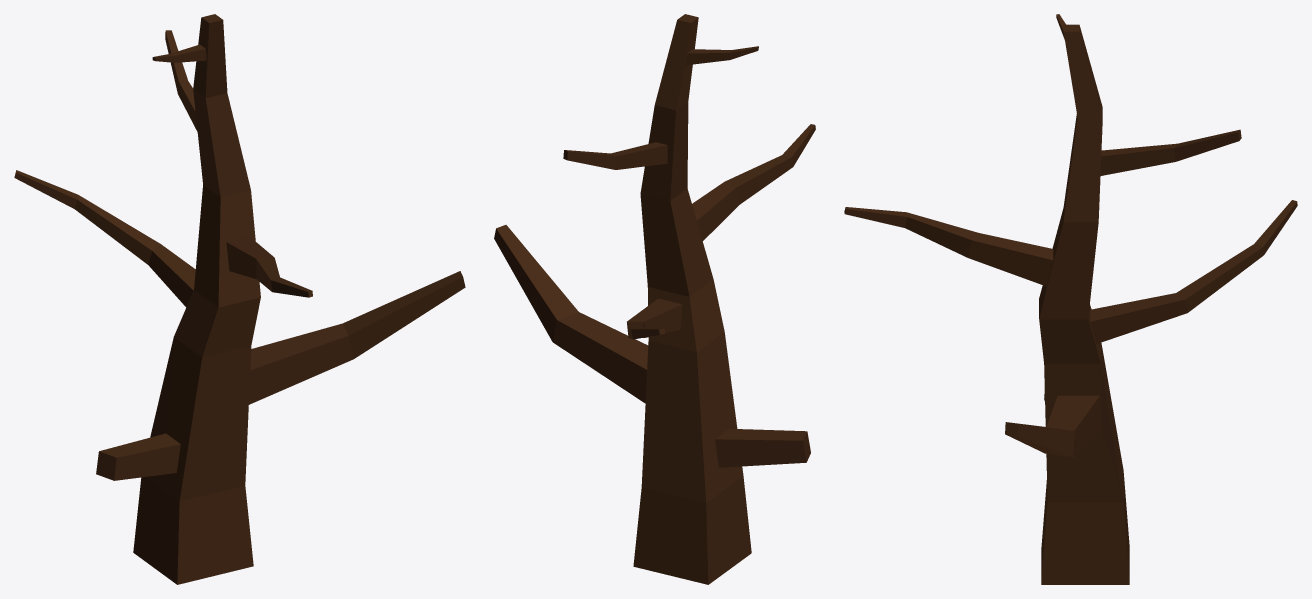
The model's file is Dorre Boom Design 2.fbx.
The picture shows the model from 3 angles, left to right: view 1: azimuth 30°, elevation 25°; view 2: azimuth 150°, elevation 25°; view 3: azimuth 270°, elevation 25°; orthographic projection.
Visible parts, largest first — view 1: Dode boom Design 2; view 2: Dode boom Design 2; view 3: Dode boom Design 2.
Part boxes in pixels (x1,y1,x2,y2): Dode boom Design 2: [14, 14, 465, 584]; Dode boom Design 2: [494, 14, 815, 584]; Dode boom Design 2: [844, 14, 1297, 584].
Bounding box in the file's own units: 450 × 682 × 515.
